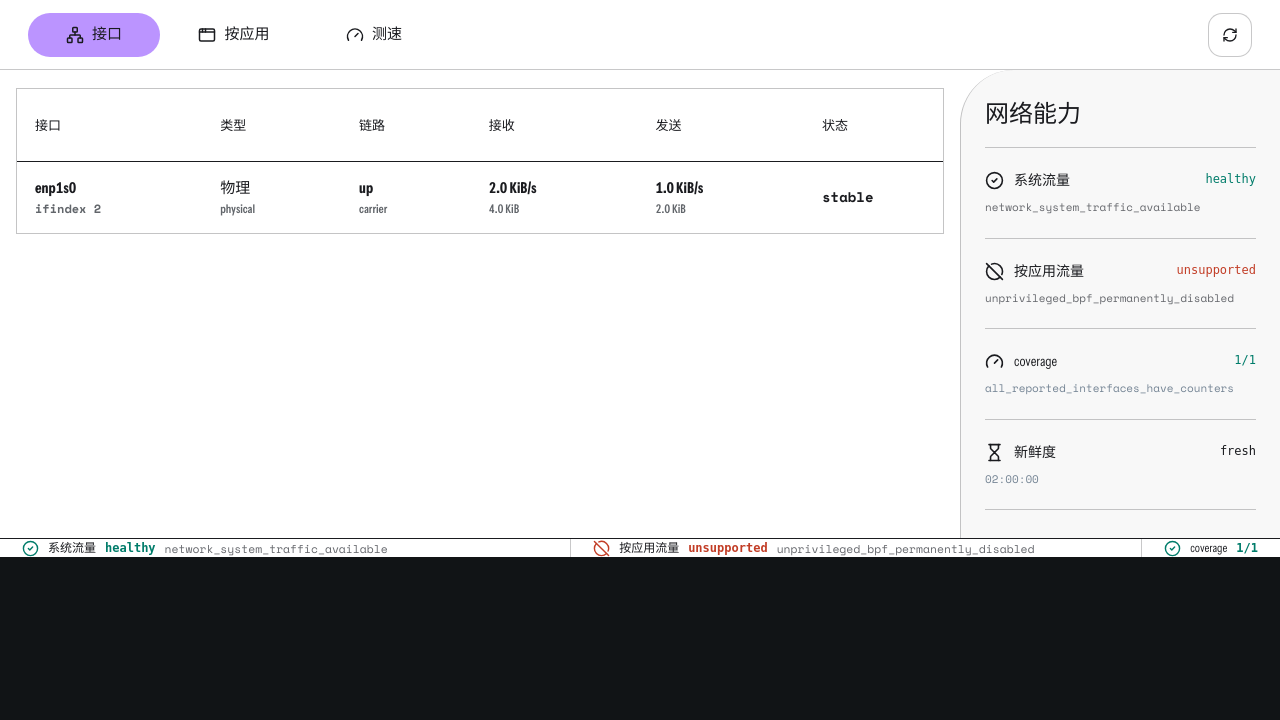
Test case: NetworkView speedtest tab › runs the basic test and renders only latency and bandwidth facts
This screenshot has width=1280, height=720.
Click the tab "测速" at (374, 34), box [308,12,440,56]
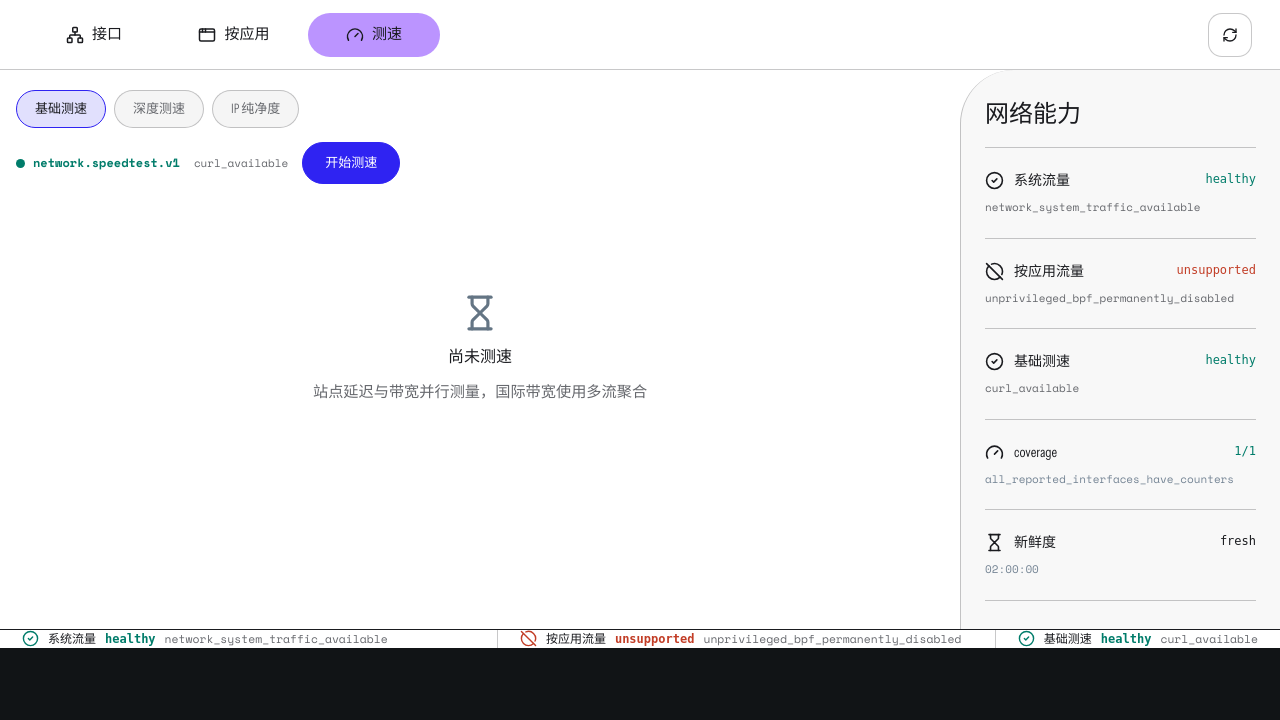
Click the button with class "speed-start" at (351, 163), box [302,142,400,184]
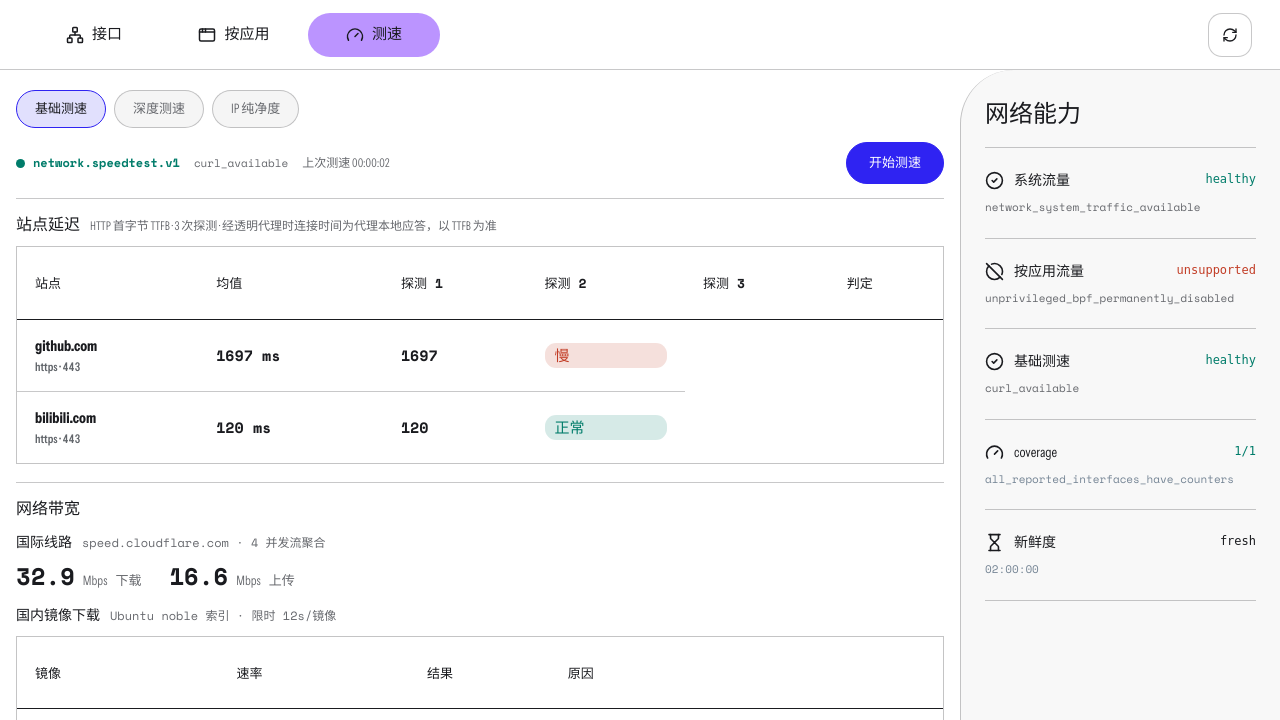
Now the text "github.com" is shown, box [35,336,97,355]
Now the text "1697" is shown, box [216,344,280,366]
Now the text "bilibili.com" is shown, box [35,408,96,427]
